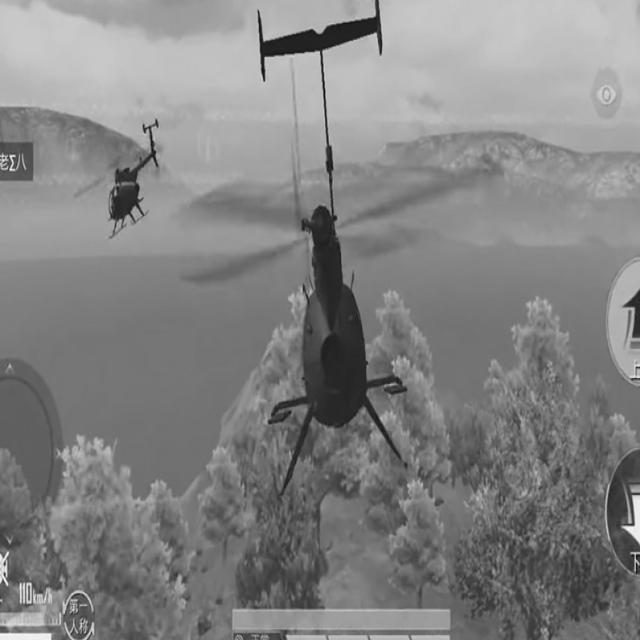helicopter: (241, 1, 435, 518), (71, 95, 180, 260)
